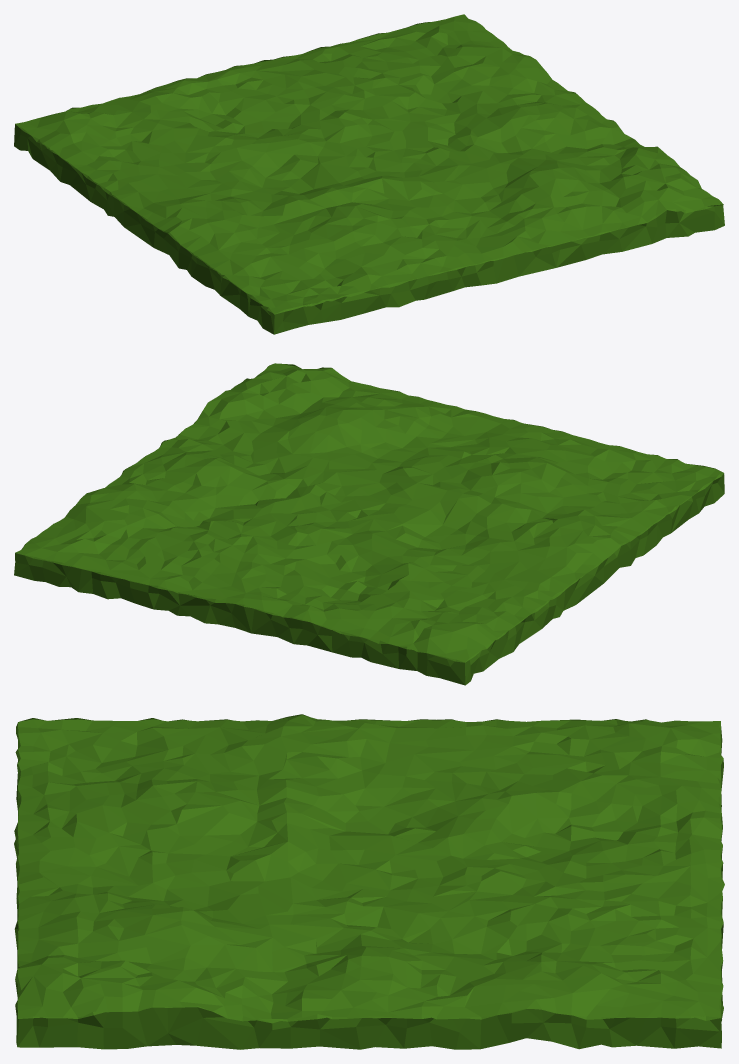
Rendered from GND1.fbx.
3 renders of one model, top to bottom at view 1: azimuth 30°, elevation 25°; view 2: azimuth 150°, elevation 25°; view 3: azimuth 270°, elevation 25°, orthographic. The views are drawn at different scales.
Parts seen in each view (by area): view 1: Plane; view 2: Plane; view 3: Plane.
Boxes of the visible parts, <box> form: Plane: <box>14,14,724,334</box>; Plane: <box>14,363,724,685</box>; Plane: <box>14,714,724,1049</box>.
Bounding box in the file's own units: 20210 × 2114 × 20234.
